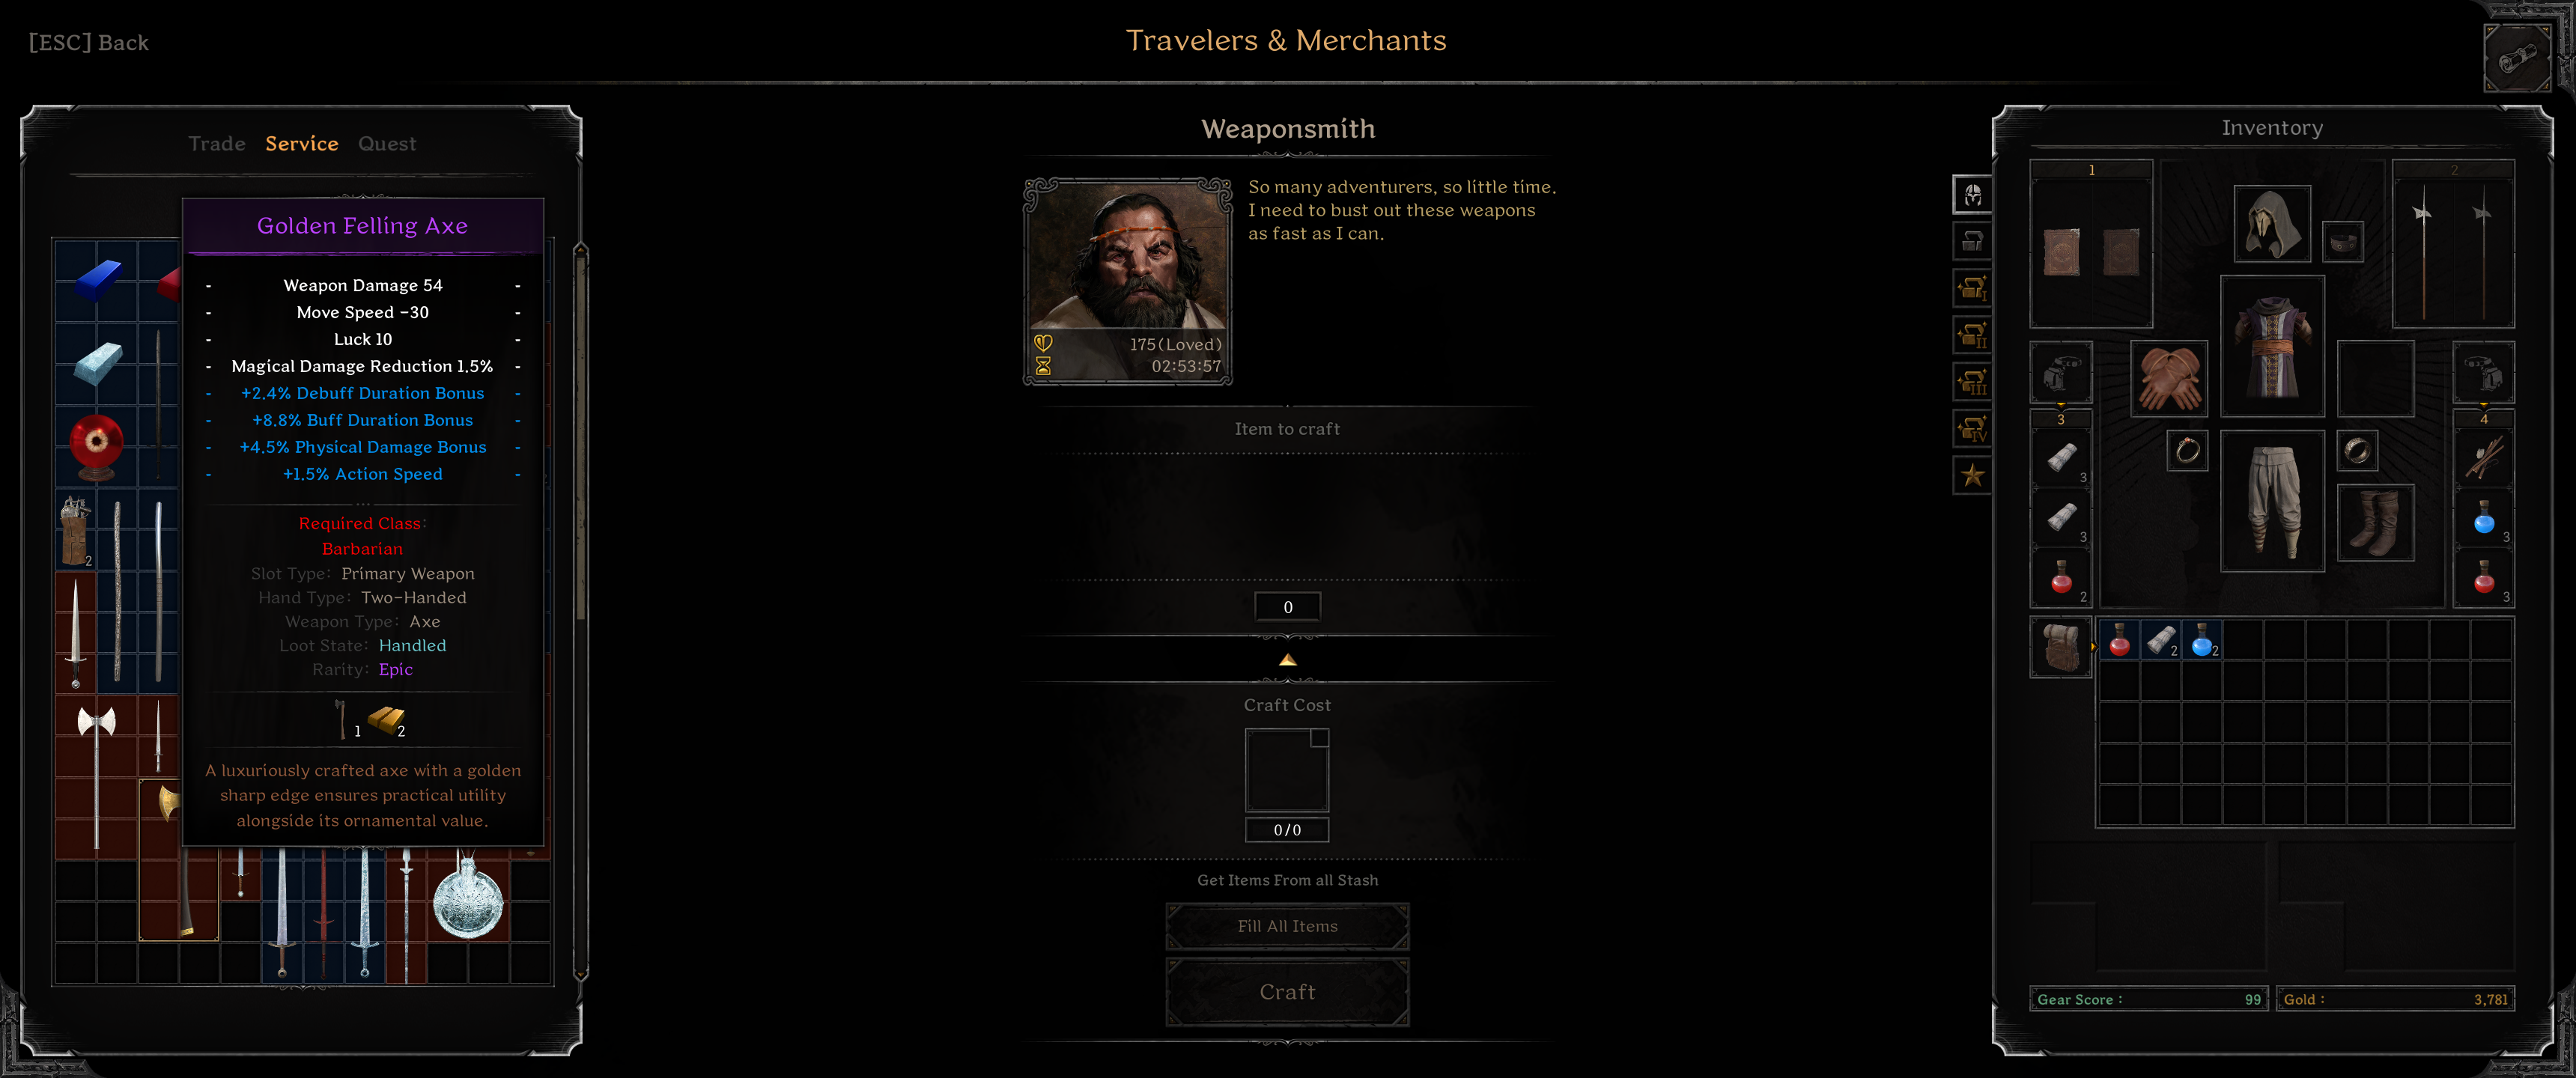Tooltip: (179, 196, 547, 848)
